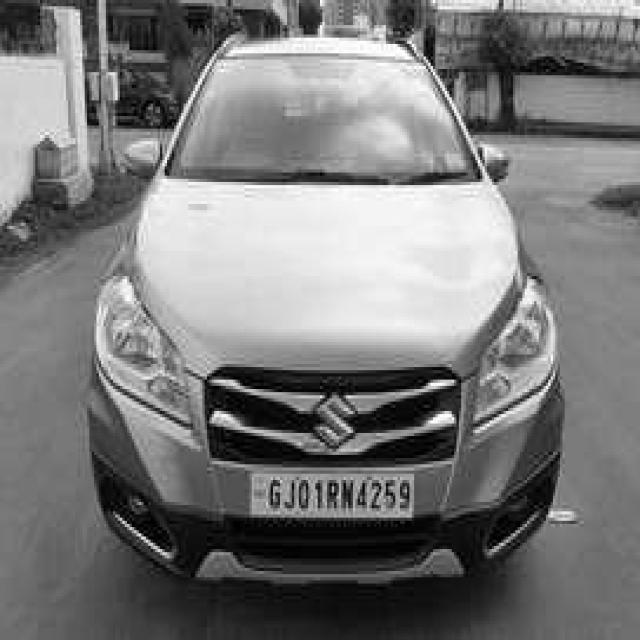car: (85, 28, 569, 609)
license-plate: (252, 467, 421, 524)
